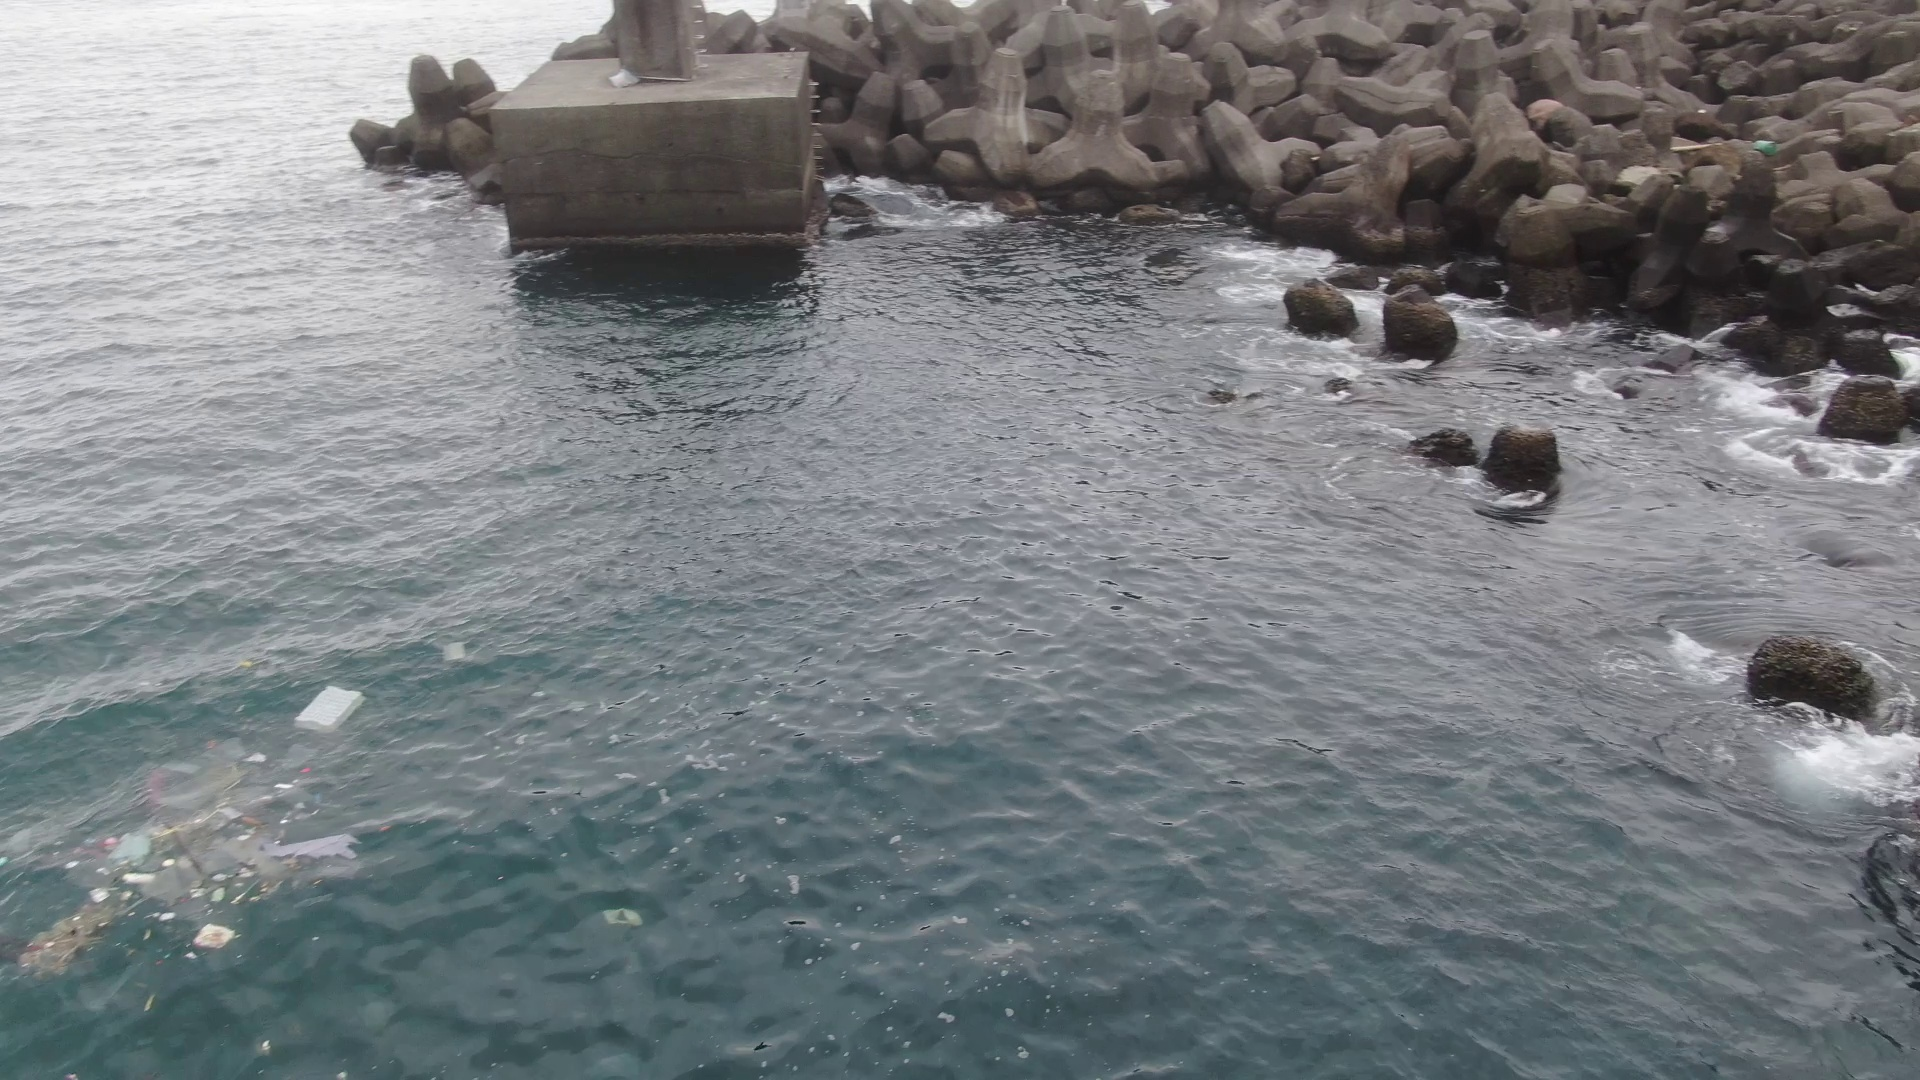garbage: (12, 745, 363, 981), (298, 684, 361, 729), (603, 906, 646, 928), (440, 638, 465, 667)
